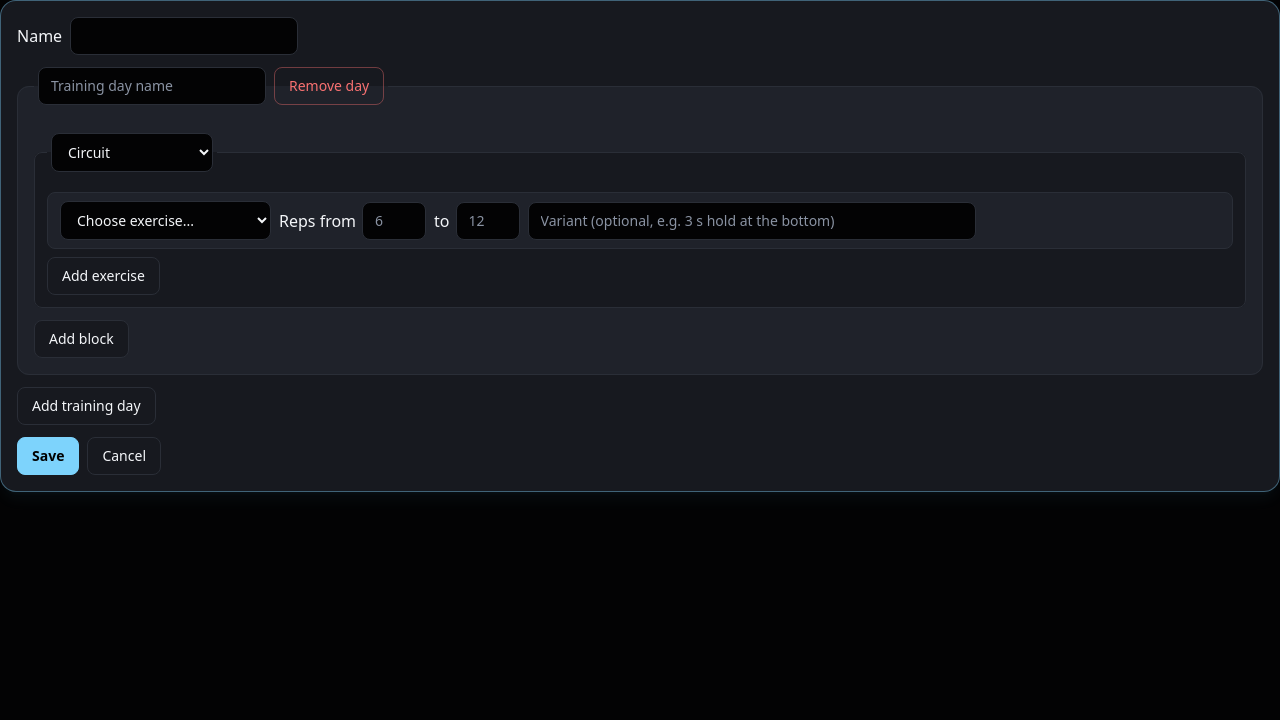
Test: PlanForm › shows the server error message when submitting a new plan fails
In the field labelled "Name": (184, 36) [70, 17, 298, 55], type "Test plan"
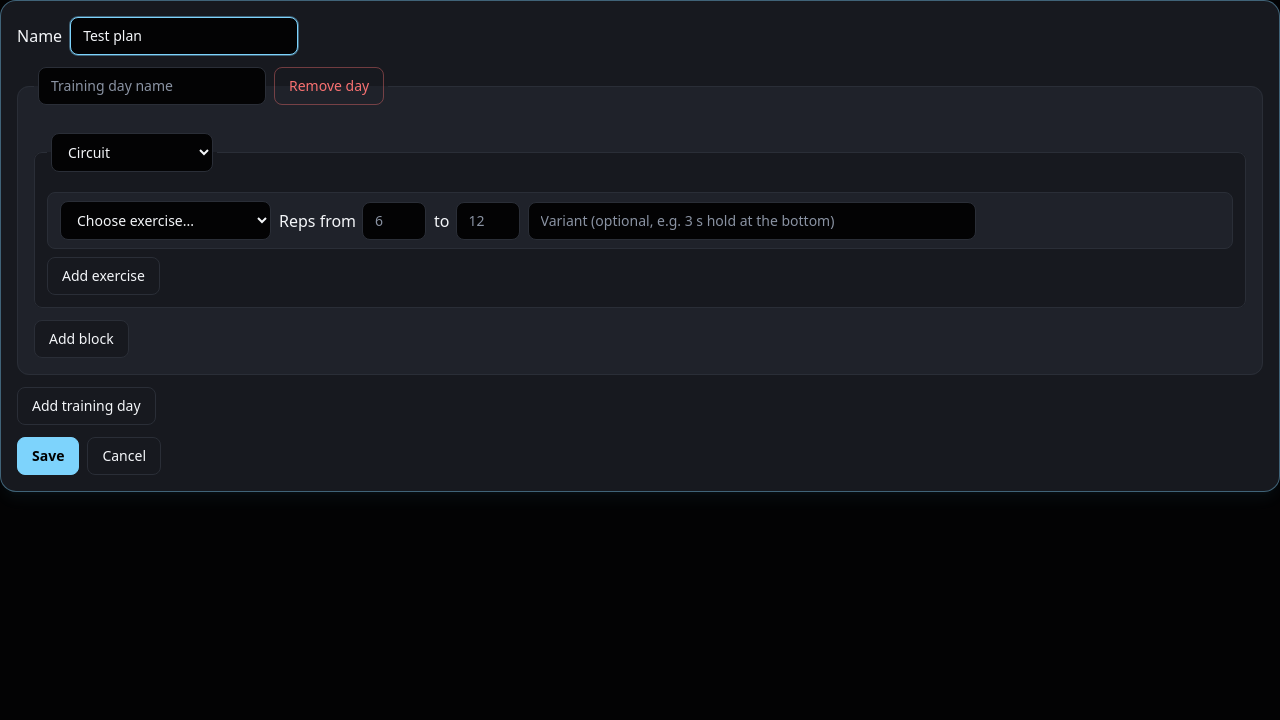
In the field with placeholder "Training day name": (152, 86) [38, 67, 266, 105], type "Day 1"
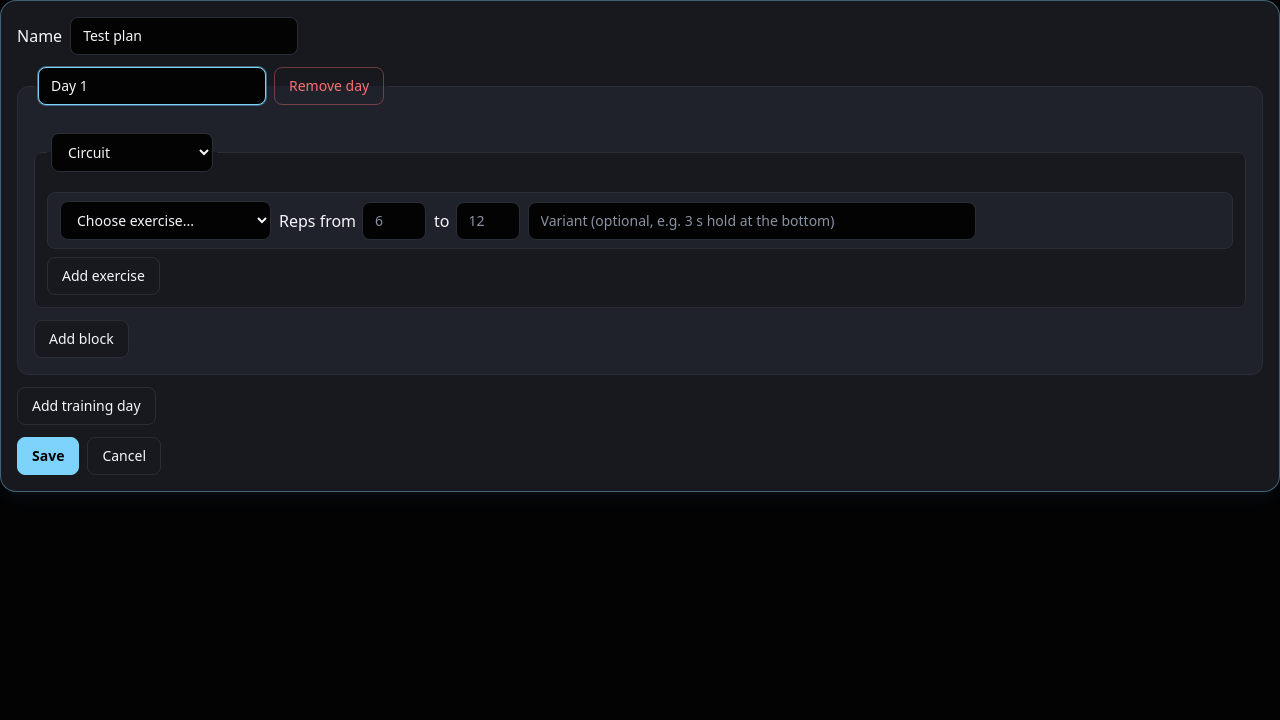
Select "Squat" in the dropdown next to "Reps from": (166, 220) [60, 201, 271, 240]
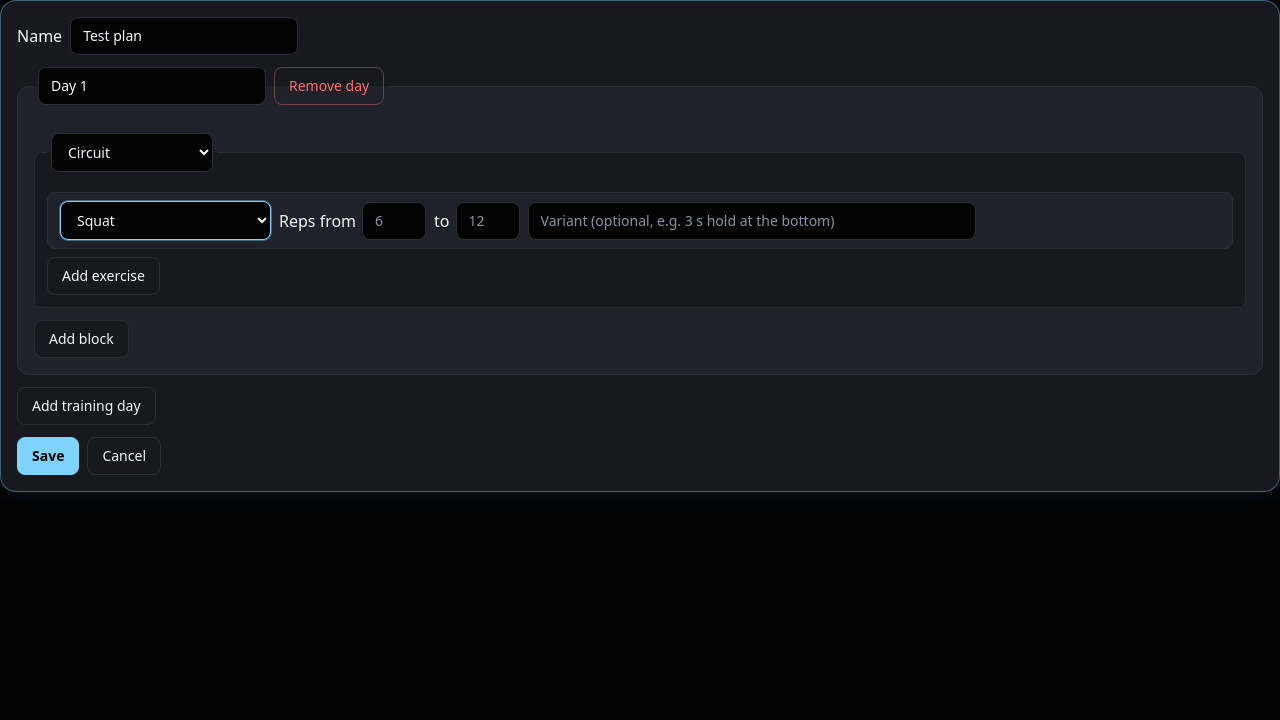
Click the button "Save": (48, 456) [17, 437, 79, 475]
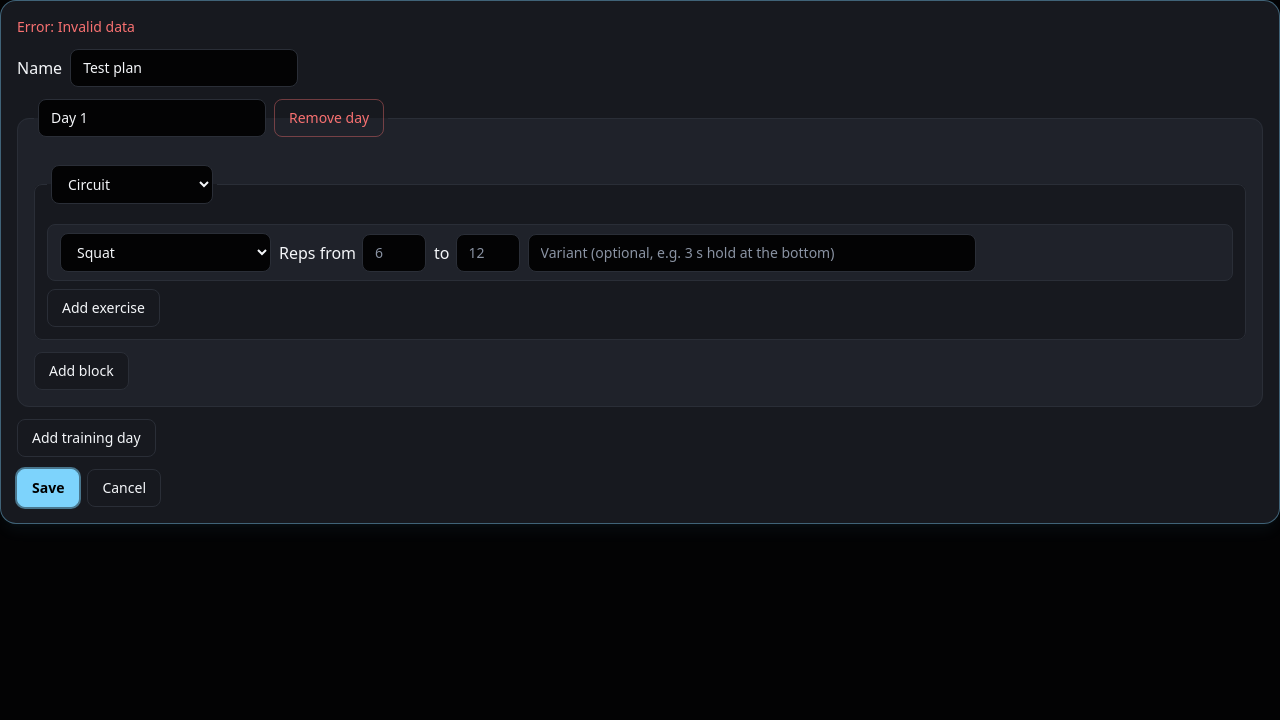
Result: the text "Error: Invalid data" is shown at [17, 17, 135, 37]
